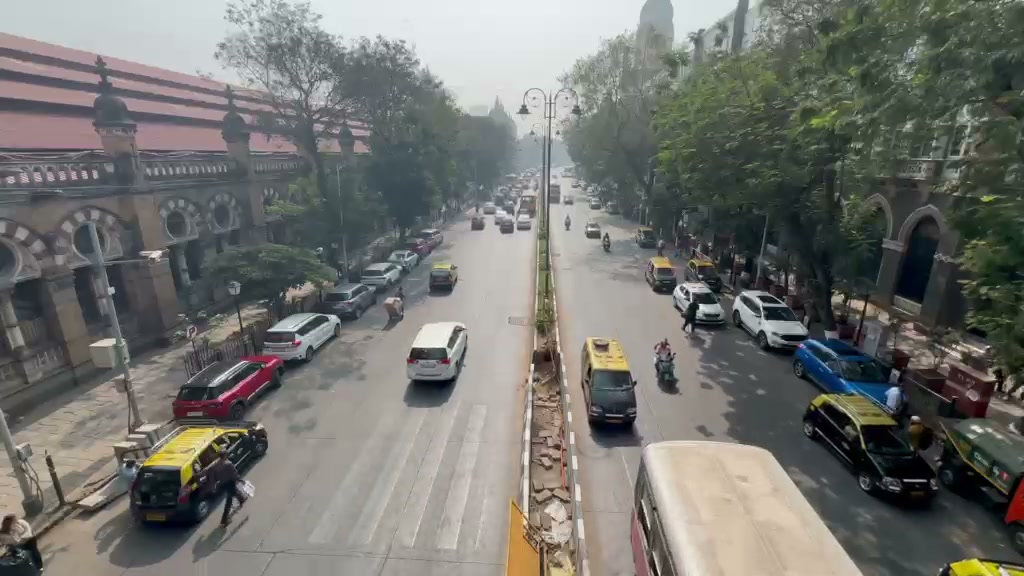bus: (630, 438, 862, 574)
car: (801, 392, 941, 507), (128, 422, 268, 526), (791, 337, 898, 412), (936, 416, 1024, 507), (172, 354, 284, 421), (580, 335, 639, 429), (731, 291, 809, 352), (260, 311, 341, 366), (405, 321, 469, 383), (320, 280, 379, 322), (672, 282, 725, 327), (1003, 471, 1024, 556), (672, 280, 722, 315), (681, 295, 728, 330), (644, 256, 679, 294), (360, 261, 403, 288), (428, 258, 459, 294), (408, 229, 444, 253), (387, 249, 419, 271), (497, 213, 516, 234), (585, 220, 601, 238)
